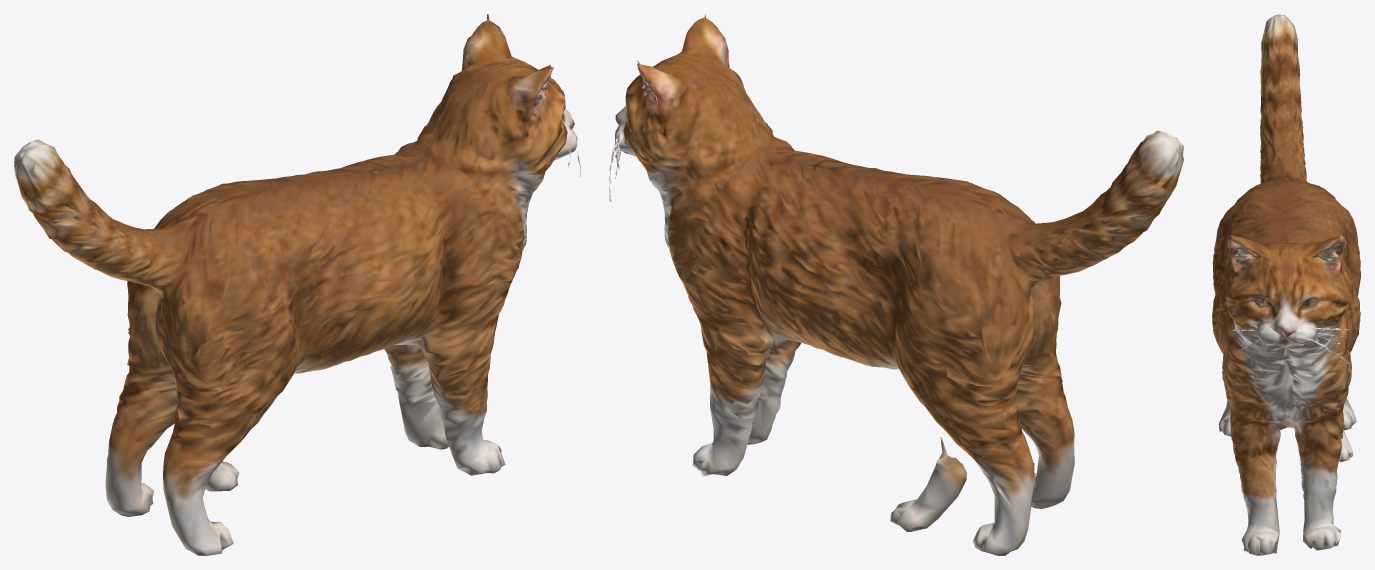
File: STOURCAT-lo.glb
3 views of the same model, side by side, from view 1: azimuth 30°, elevation 25°; view 2: azimuth 150°, elevation 25°; view 3: azimuth 270°, elevation 25° (orthographic). The views are drawn at different scales.
Parts seen in each view (by area): view 1: tripo_node_3acbac93-008f-4870-bccf-dc75f7e3d536; view 2: tripo_node_3acbac93-008f-4870-bccf-dc75f7e3d536; view 3: tripo_node_3acbac93-008f-4870-bccf-dc75f7e3d536.
Boxes of the visible parts, box(x1,y1,x2,y2) form: tripo_node_3acbac93-008f-4870-bccf-dc75f7e3d536: box(14, 14, 580, 555); tripo_node_3acbac93-008f-4870-bccf-dc75f7e3d536: box(609, 14, 1183, 555); tripo_node_3acbac93-008f-4870-bccf-dc75f7e3d536: box(1212, 14, 1360, 555).
Size of the model in its own units: 1.37 by 0.9956 by 0.3763.
Materials: 1 (1 with a texture image).
